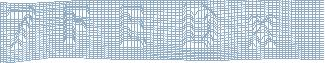7: (5, 6, 37, 50)
D: (180, 1, 218, 50)
E: (115, 5, 149, 50)
F: (61, 4, 91, 45)
x: (246, 13, 278, 50)
